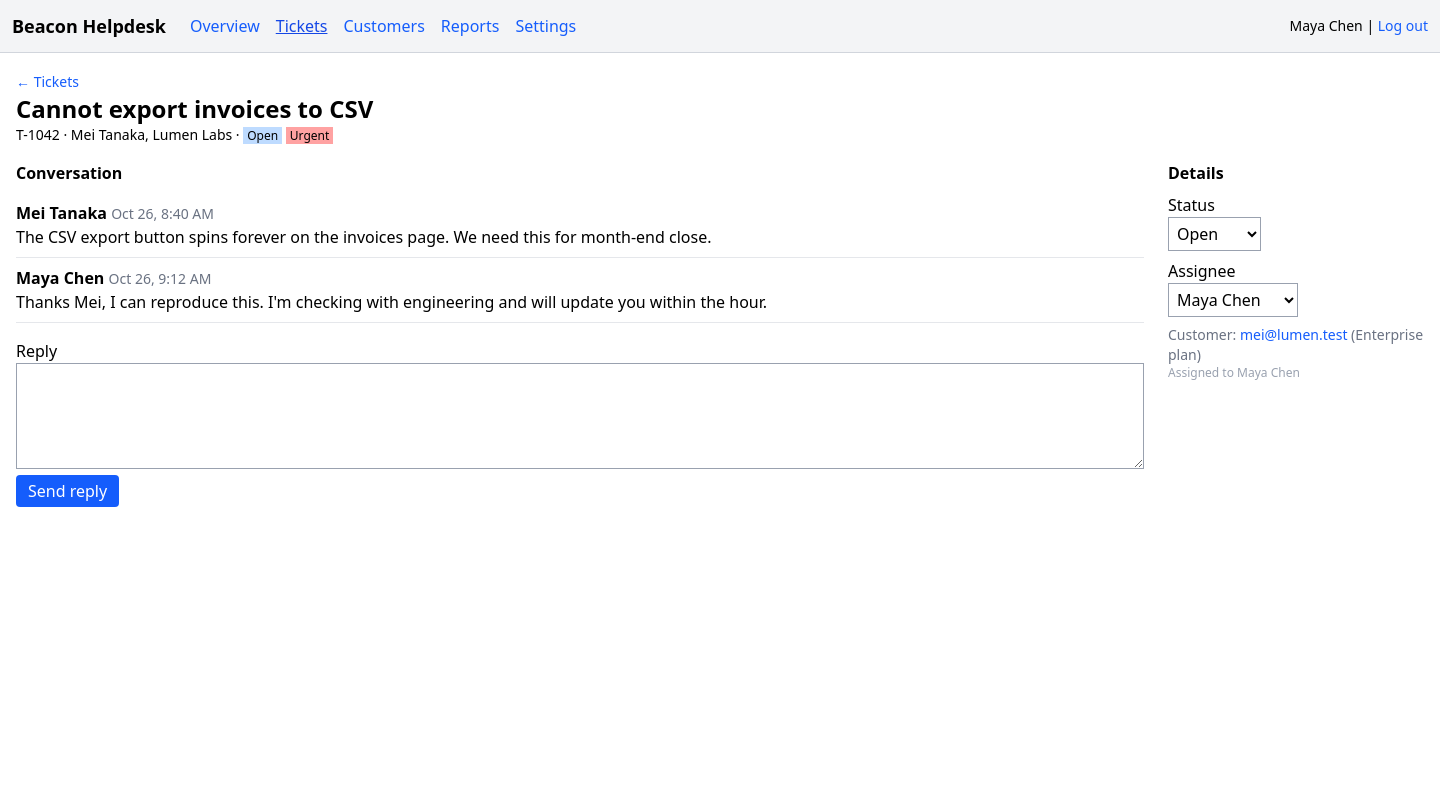
Test: ticket detail › appends a reply to the conversation
The width and height of the screenshot is (1440, 810).
Expected: the heading "Cannot export invoices to CSV" is shown, [16,92,373,125]
Type "Fix is rolling out now." into the text box labelled "Reply". click: (580, 416)
box: [16,363,1144,469]
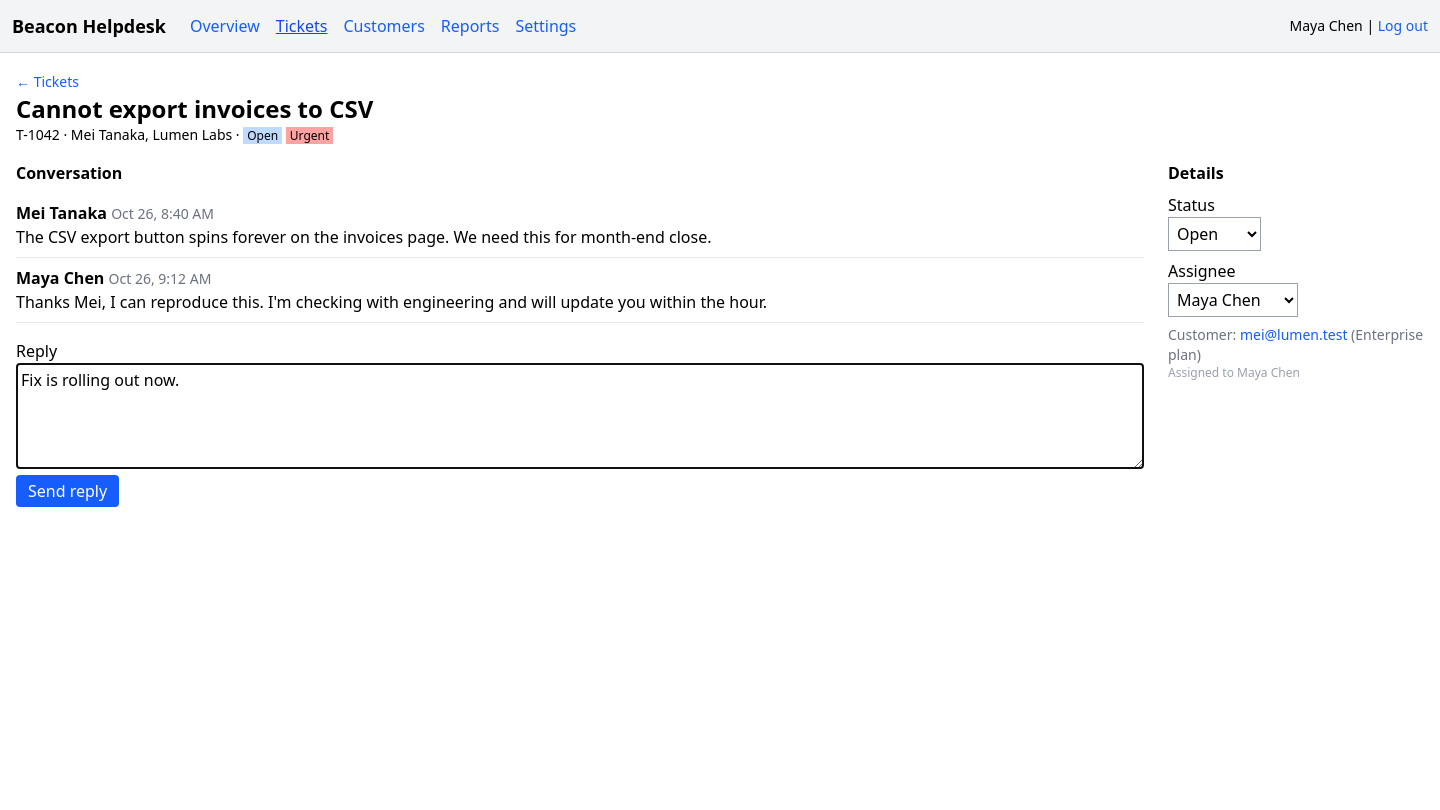
Click the button "Send reply". click: (68, 491)
box: [16,475,119,507]
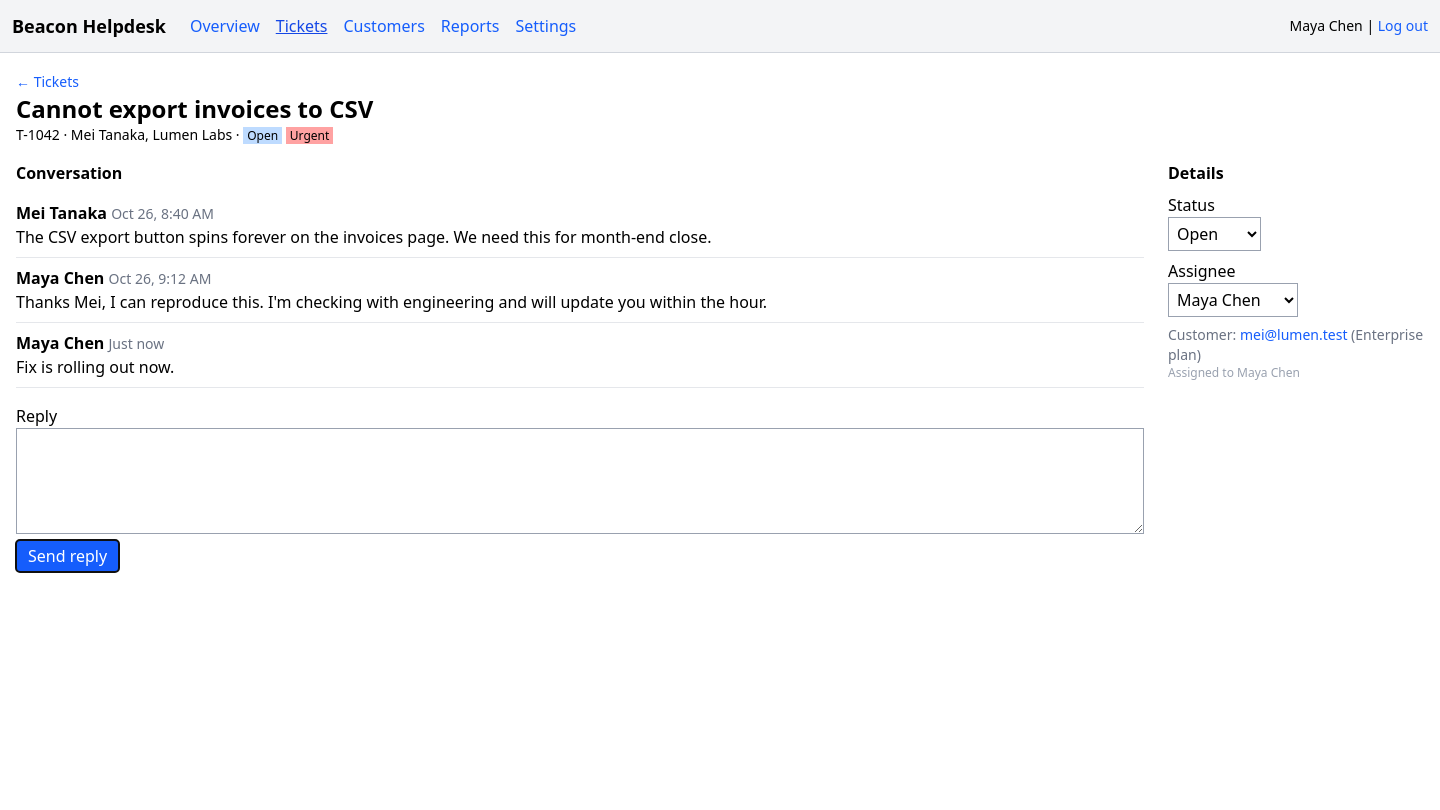
Expected: the text "Fix is rolling out now." is shown, [16,356,174,378]
Expected: the text box labelled "Reply" is empty, [16,428,1144,534]
